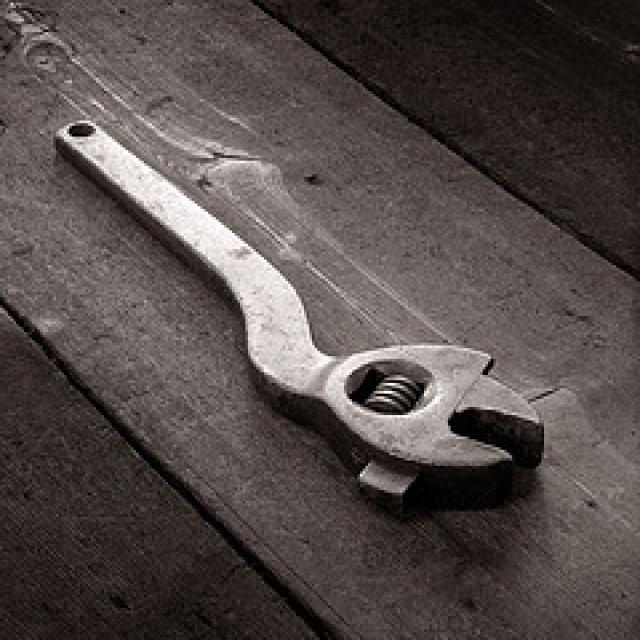wrench: (52, 114, 554, 522)
